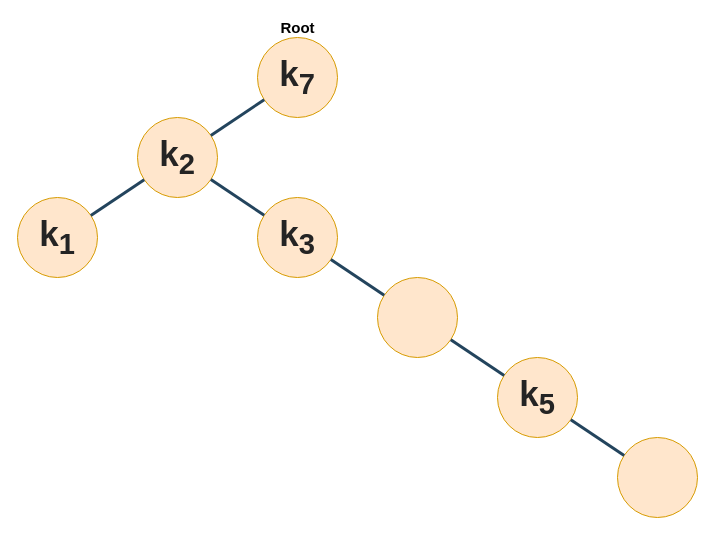
The diagram is 715 pixels wide and 535 high, and some of its shapes have lost their labels. The box of each missing label's shape, as (x1, y1, x2, y2) in pixels:
k 4: (376, 276, 458, 358)
k 6: (616, 436, 698, 518)
